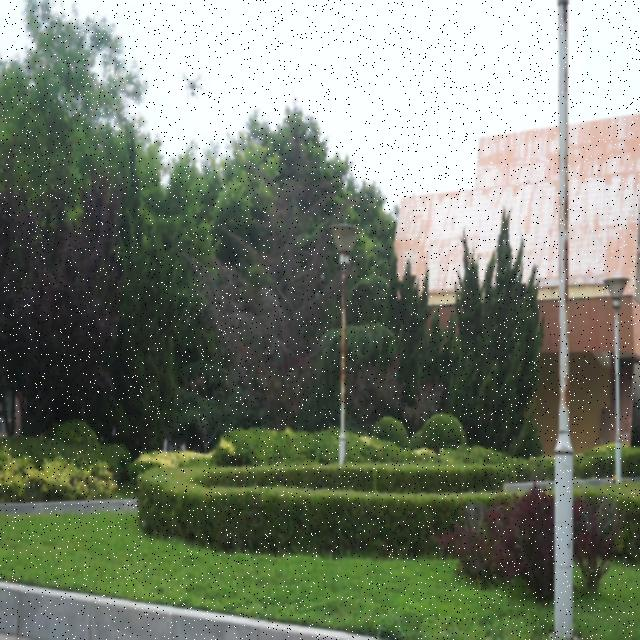UAV: (176, 71, 209, 99)
